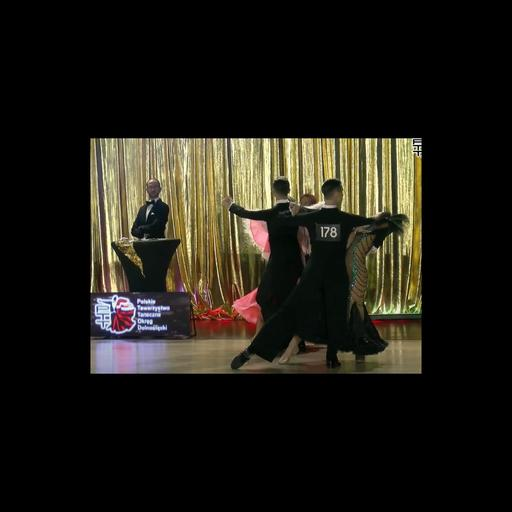couple: (232, 180, 410, 369), (224, 177, 320, 354)
